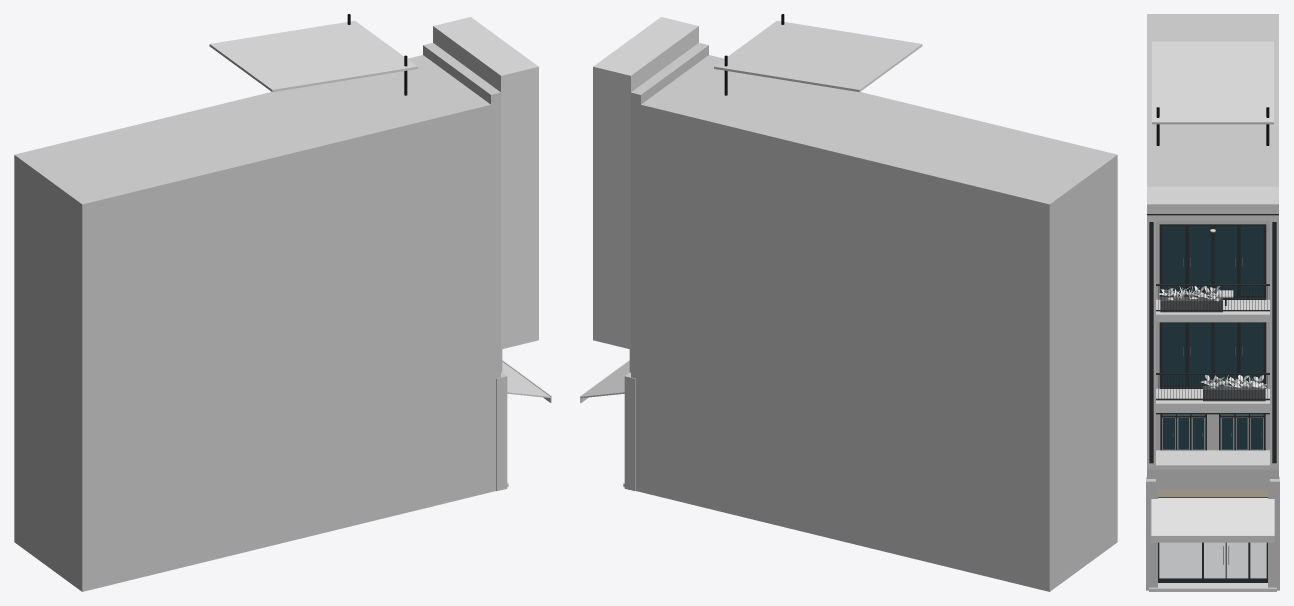
File: OW_Mau_NhaPho_4_5_3_B.fbx
The picture shows the model from 3 angles, left to right: view 1: azimuth 30°, elevation 25°; view 2: azimuth 150°, elevation 25°; view 3: azimuth 270°, elevation 25°; orthographic projection. The views are drawn at different scales.
Parts seen in each view (by area): view 1: OW_NhaPho_9007; view 2: OW_NhaPho_9007; view 3: OW_NhaPho_9007, OW_MatTienKinh.
Part boxes in pixels (x1=…): OW_NhaPho_9007: x1=14, y1=14, x2=551, y2=591; OW_NhaPho_9007: x1=580, y1=14, x2=1117, y2=591; OW_NhaPho_9007: x1=1146, y1=14, x2=1279, y2=591; OW_MatTienKinh: x1=1158, y1=489, x2=1267, y2=582.
Size of the model in its own units: 17.77 by 16.31 by 4.5.
